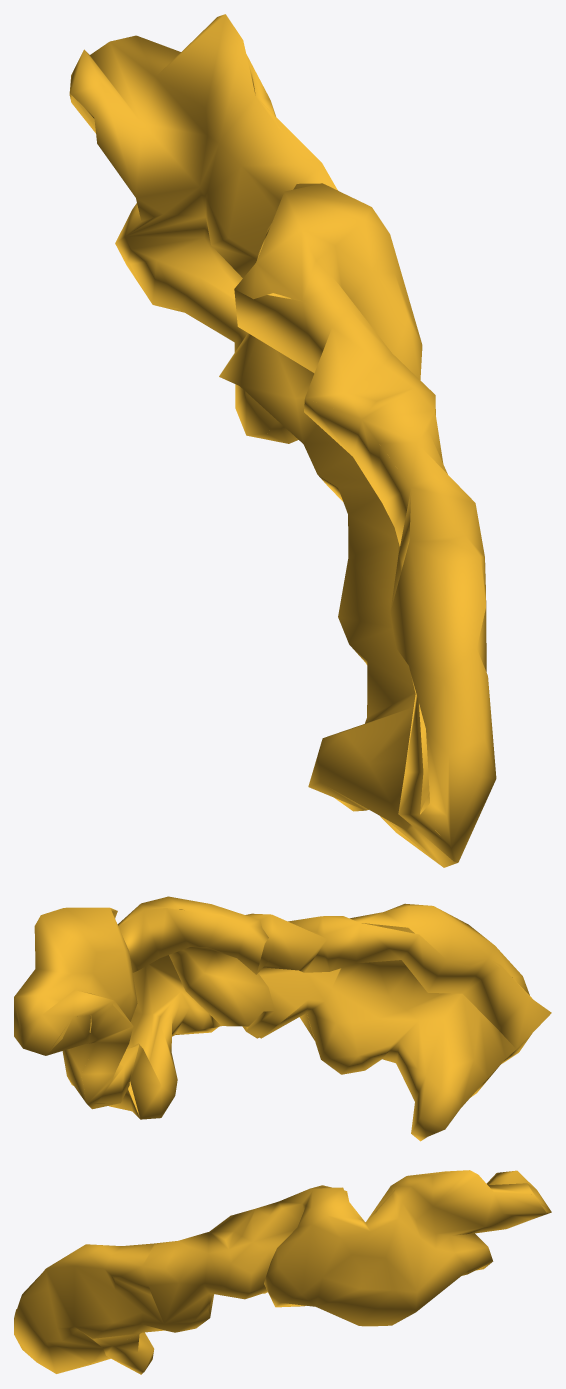
The model's file is nervoso-superior-temporal-gyrus-lateral-part-l.glb.
3 renders of one model, top to bottom at view 1: azimuth 30°, elevation 25°; view 2: azimuth 150°, elevation 25°; view 3: azimuth 270°, elevation 25°, orthographic. The views are drawn at different scales.
Visible parts, largest first — view 1: Superior temporal gyrus (Lateral part).l; view 2: Superior temporal gyrus (Lateral part).l; view 3: Superior temporal gyrus (Lateral part).l.
Boxes of the visible parts, left/top/right/bottom form: Superior temporal gyrus (Lateral part).l: left=69, top=14, right=496, bottom=867; Superior temporal gyrus (Lateral part).l: left=14, top=896, right=551, bottom=1141; Superior temporal gyrus (Lateral part).l: left=14, top=1170, right=551, bottom=1374.
Size of the model in its own units: 0.0254 by 0.0429 by 0.0823.
